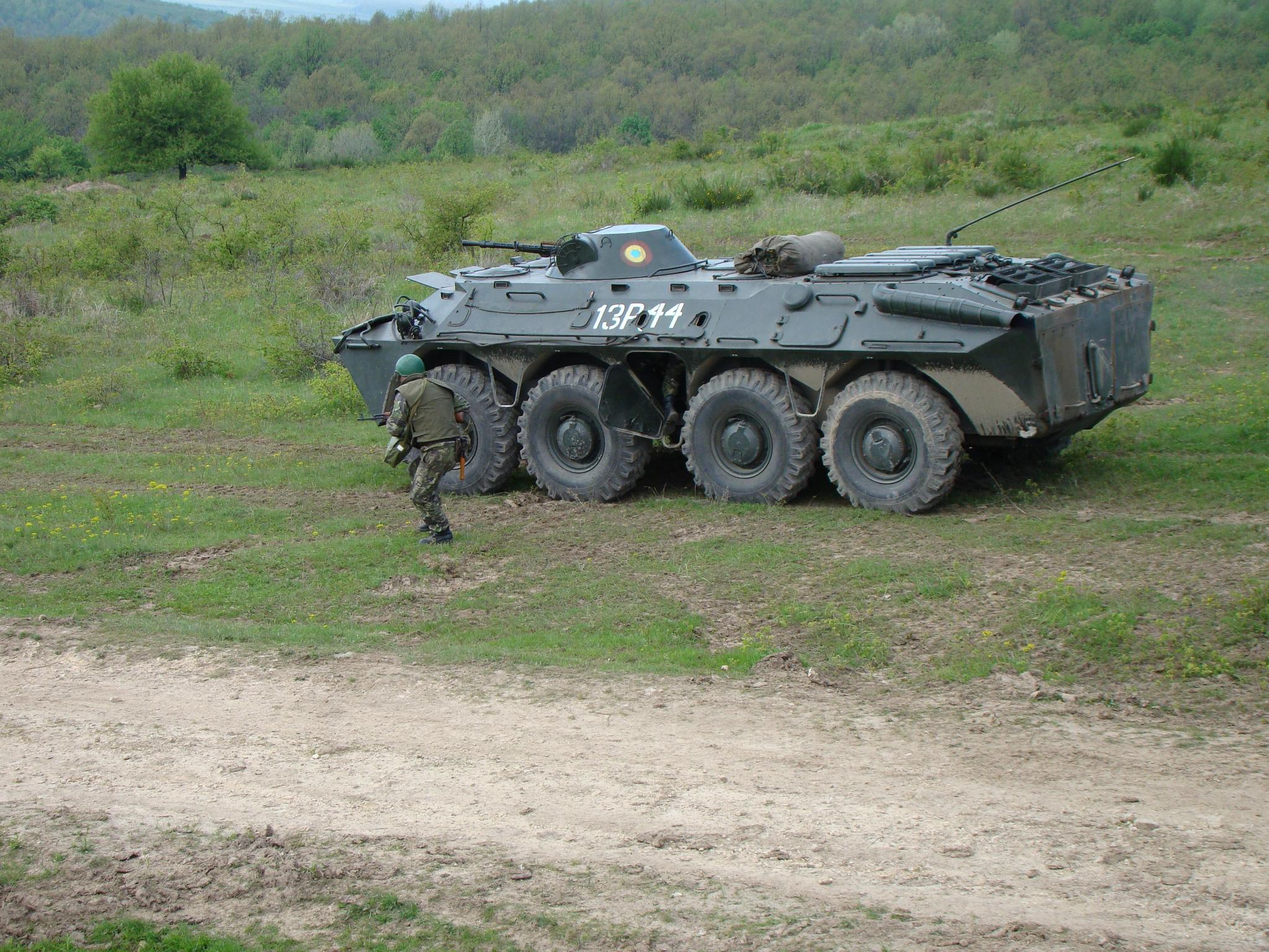person: (382, 354, 465, 546)
tank: (331, 223, 1157, 505)
